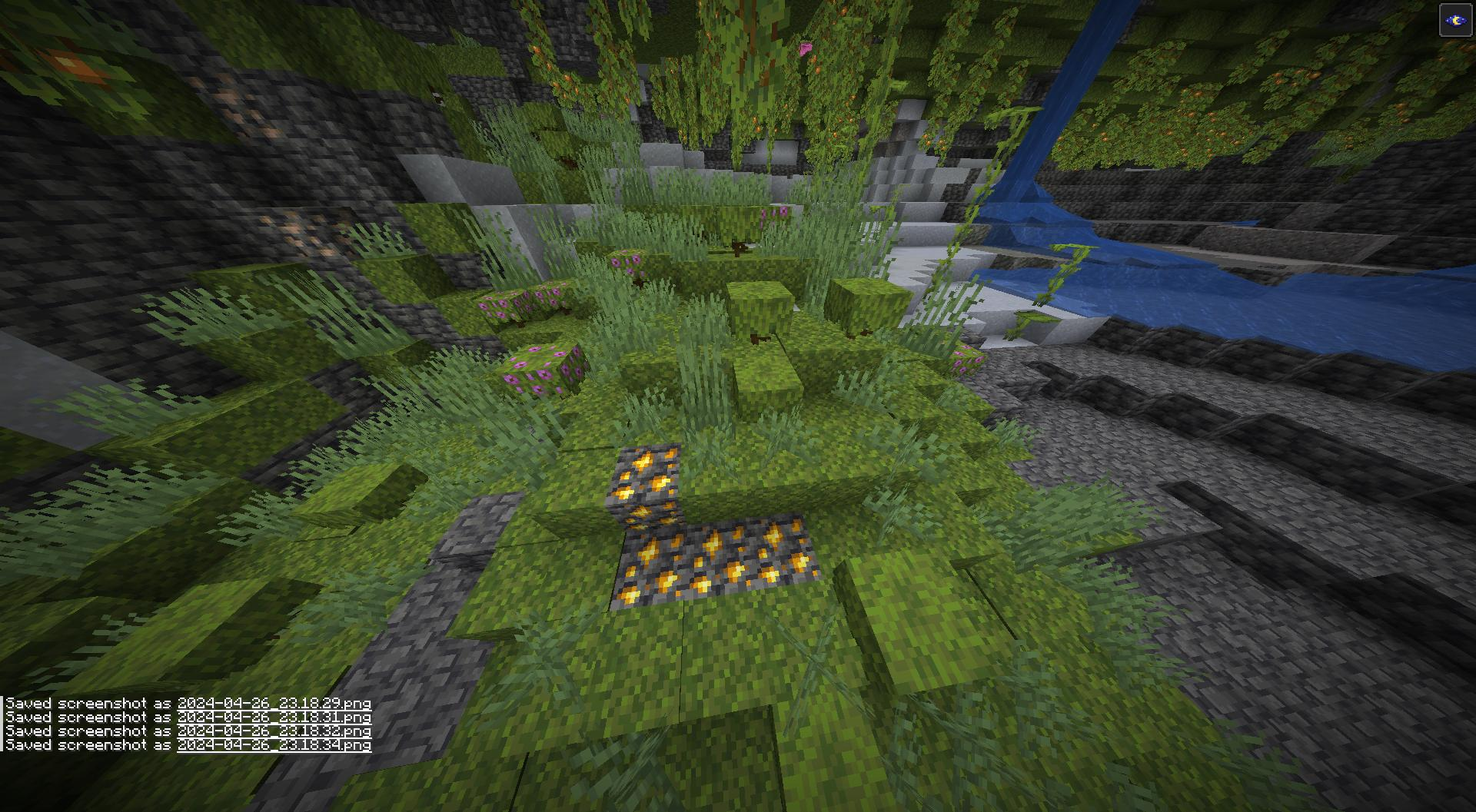gold ore: (617, 534, 684, 604), (748, 516, 817, 581), (690, 523, 751, 594), (610, 444, 678, 503), (618, 505, 685, 533)
iron ore: (186, 72, 286, 145), (269, 204, 368, 269)
